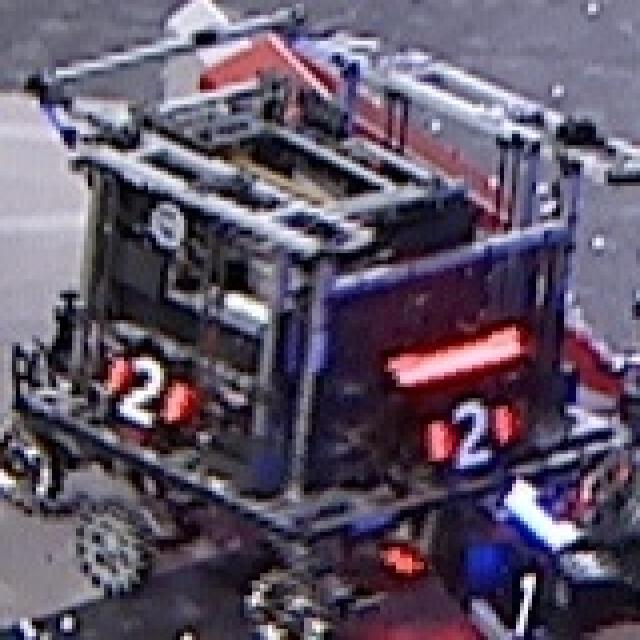R2: (412, 391, 520, 469), (96, 346, 192, 428)
